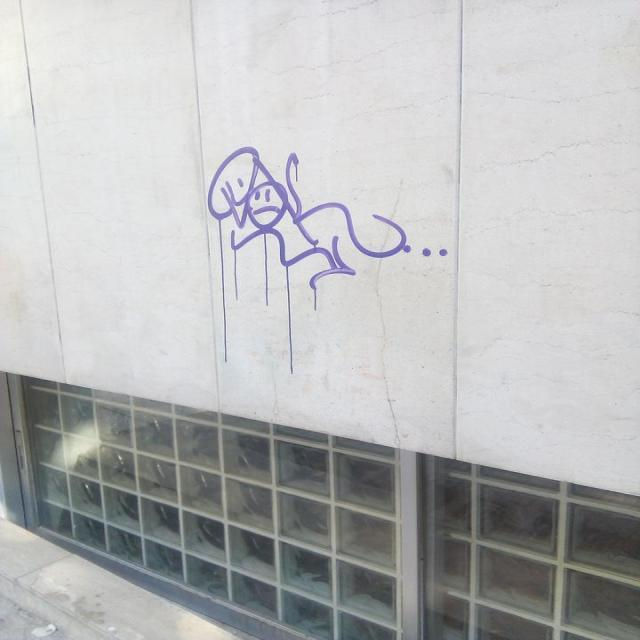nonspitting: (204, 146, 452, 288)
